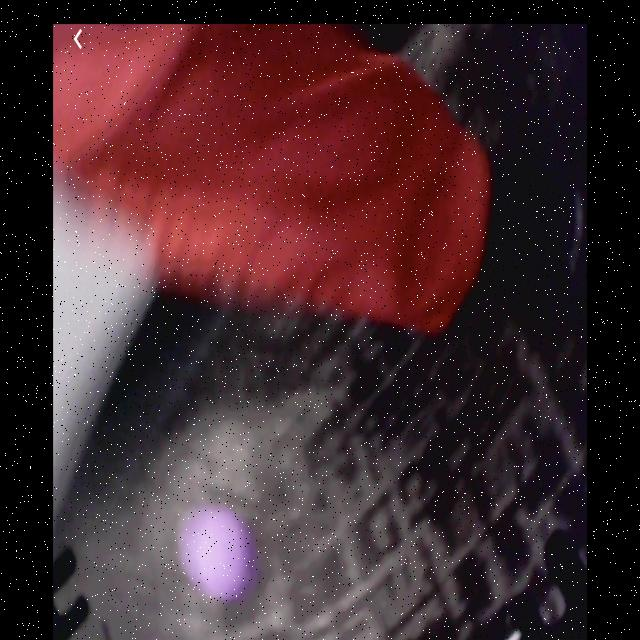ball: (192, 505, 251, 604)
